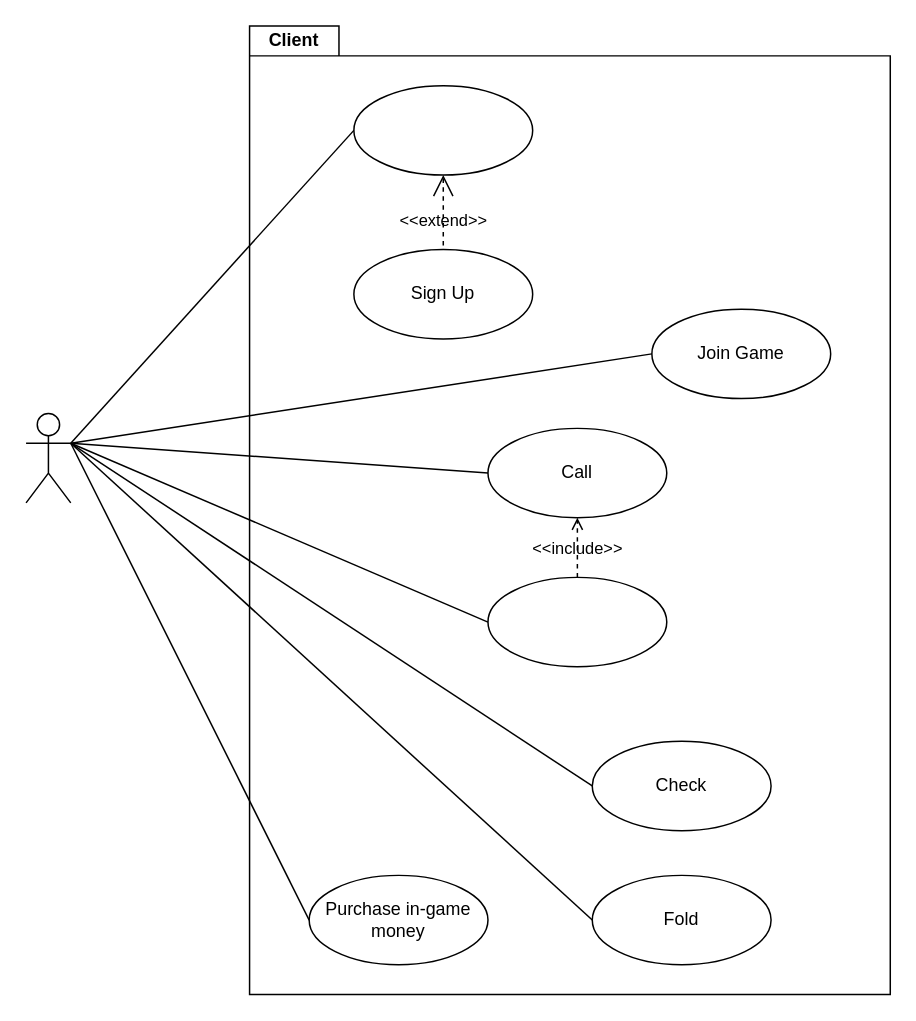
This 916x1021 diagram has some shape labels left out. Each missing label, with the centre of its shape:
Log In: (442,129)
Raise: (576,621)
User: (48,457)
